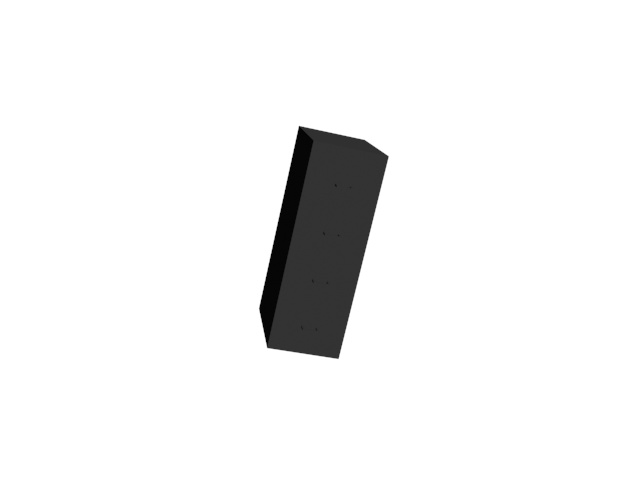file_cabinet: (257, 121, 392, 360)
